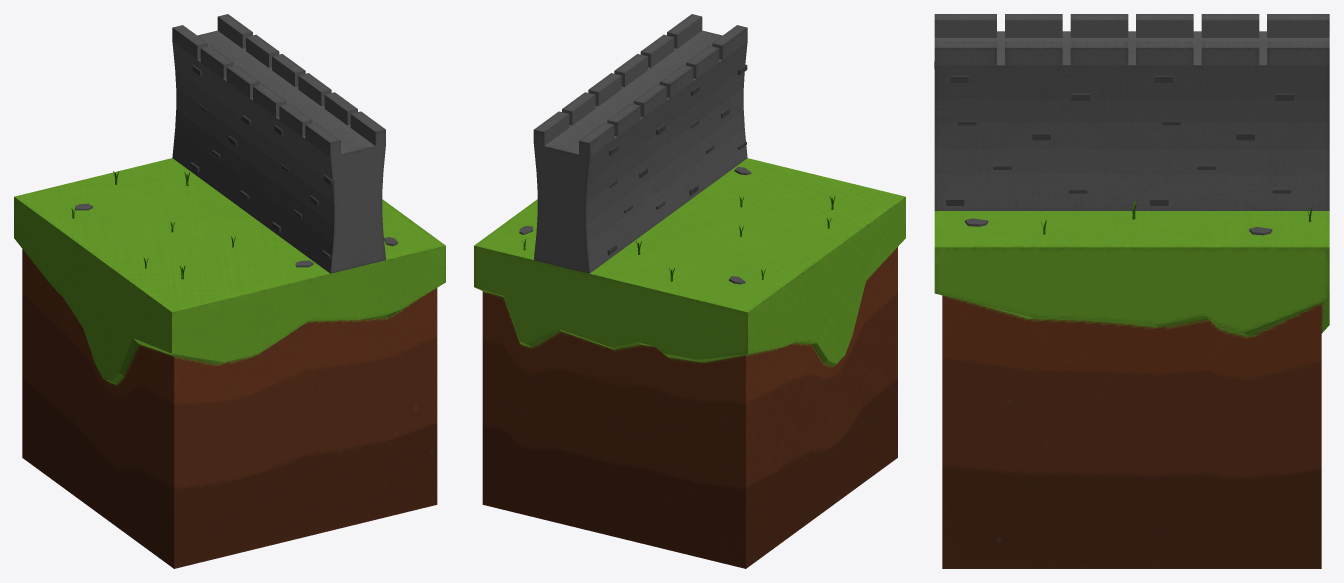
Rendered from Concepts_25.fbx.
3 views of the same model, side by side, from view 1: azimuth 30°, elevation 25°; view 2: azimuth 150°, elevation 25°; view 3: azimuth 270°, elevation 25° (orthographic). The views are drawn at different scales.
Visible parts, largest first — view 1: Cube.029, Cube.236, Cube.265; view 2: Cube.029, Cube.236, Cube.265; view 3: Cube.029, Cube.236.
Boxes of the visible parts, box(x1,y1,x2,y2) form: Cube.029: box(14, 158, 445, 568); Cube.236: box(172, 14, 385, 273); Cube.265: box(71, 171, 397, 279); Cube.029: box(474, 158, 905, 568); Cube.236: box(533, 14, 747, 273); Cube.265: box(519, 167, 835, 284); Cube.029: box(934, 211, 1329, 568); Cube.236: box(934, 14, 1329, 210).
Bounding box in the file's own units: 301 × 411 × 302.
